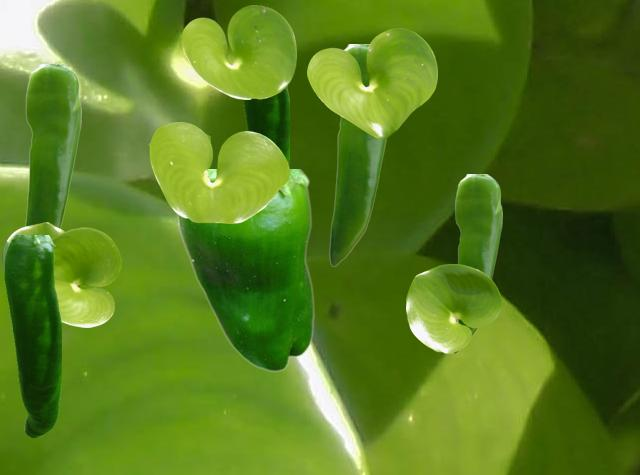green_chili: (176, 169, 313, 371), (329, 44, 387, 265), (4, 235, 60, 437), (24, 64, 80, 227), (454, 174, 501, 352), (242, 87, 288, 161)
